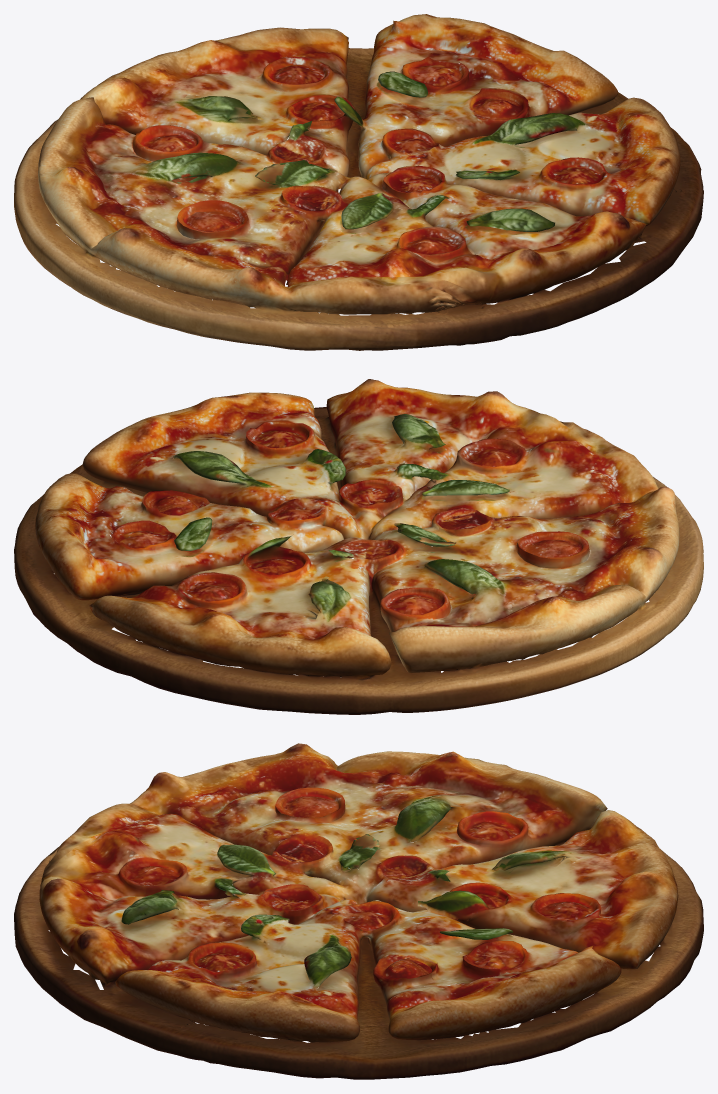
Rendered from pepperonipizza_v2.glb.
3 views of the same model, one above another, from view 1: azimuth 30°, elevation 25°; view 2: azimuth 150°, elevation 25°; view 3: azimuth 270°, elevation 25° (orthographic).
Visible parts, largest first — view 1: tripo_node_b654eb42; view 2: tripo_node_b654eb42; view 3: tripo_node_b654eb42.
Boxes of the visible parts, x1,y1,x2,y2 form: tripo_node_b654eb42: (14,14,703,350); tripo_node_b654eb42: (14,379,703,714); tripo_node_b654eb42: (14,743,703,1079).
Bounding box in the file's own units: 0.9986 × 0.1039 × 0.9963.
Materials: 1 (1 with a texture image).
